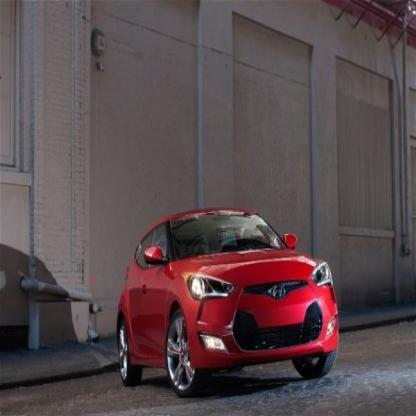car: (115, 203, 344, 397)
